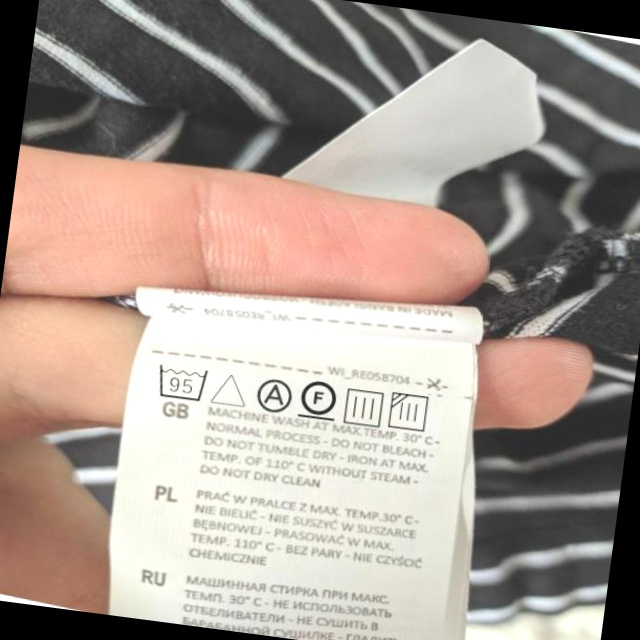95C: (154, 360, 212, 404)
bleach: (211, 367, 249, 411)
drip_dry: (341, 384, 388, 429)
drip_dry_in_shade: (387, 389, 435, 436)
dry_clean: (253, 375, 294, 415)
dry_clean_petrol_only: (298, 374, 340, 423)
